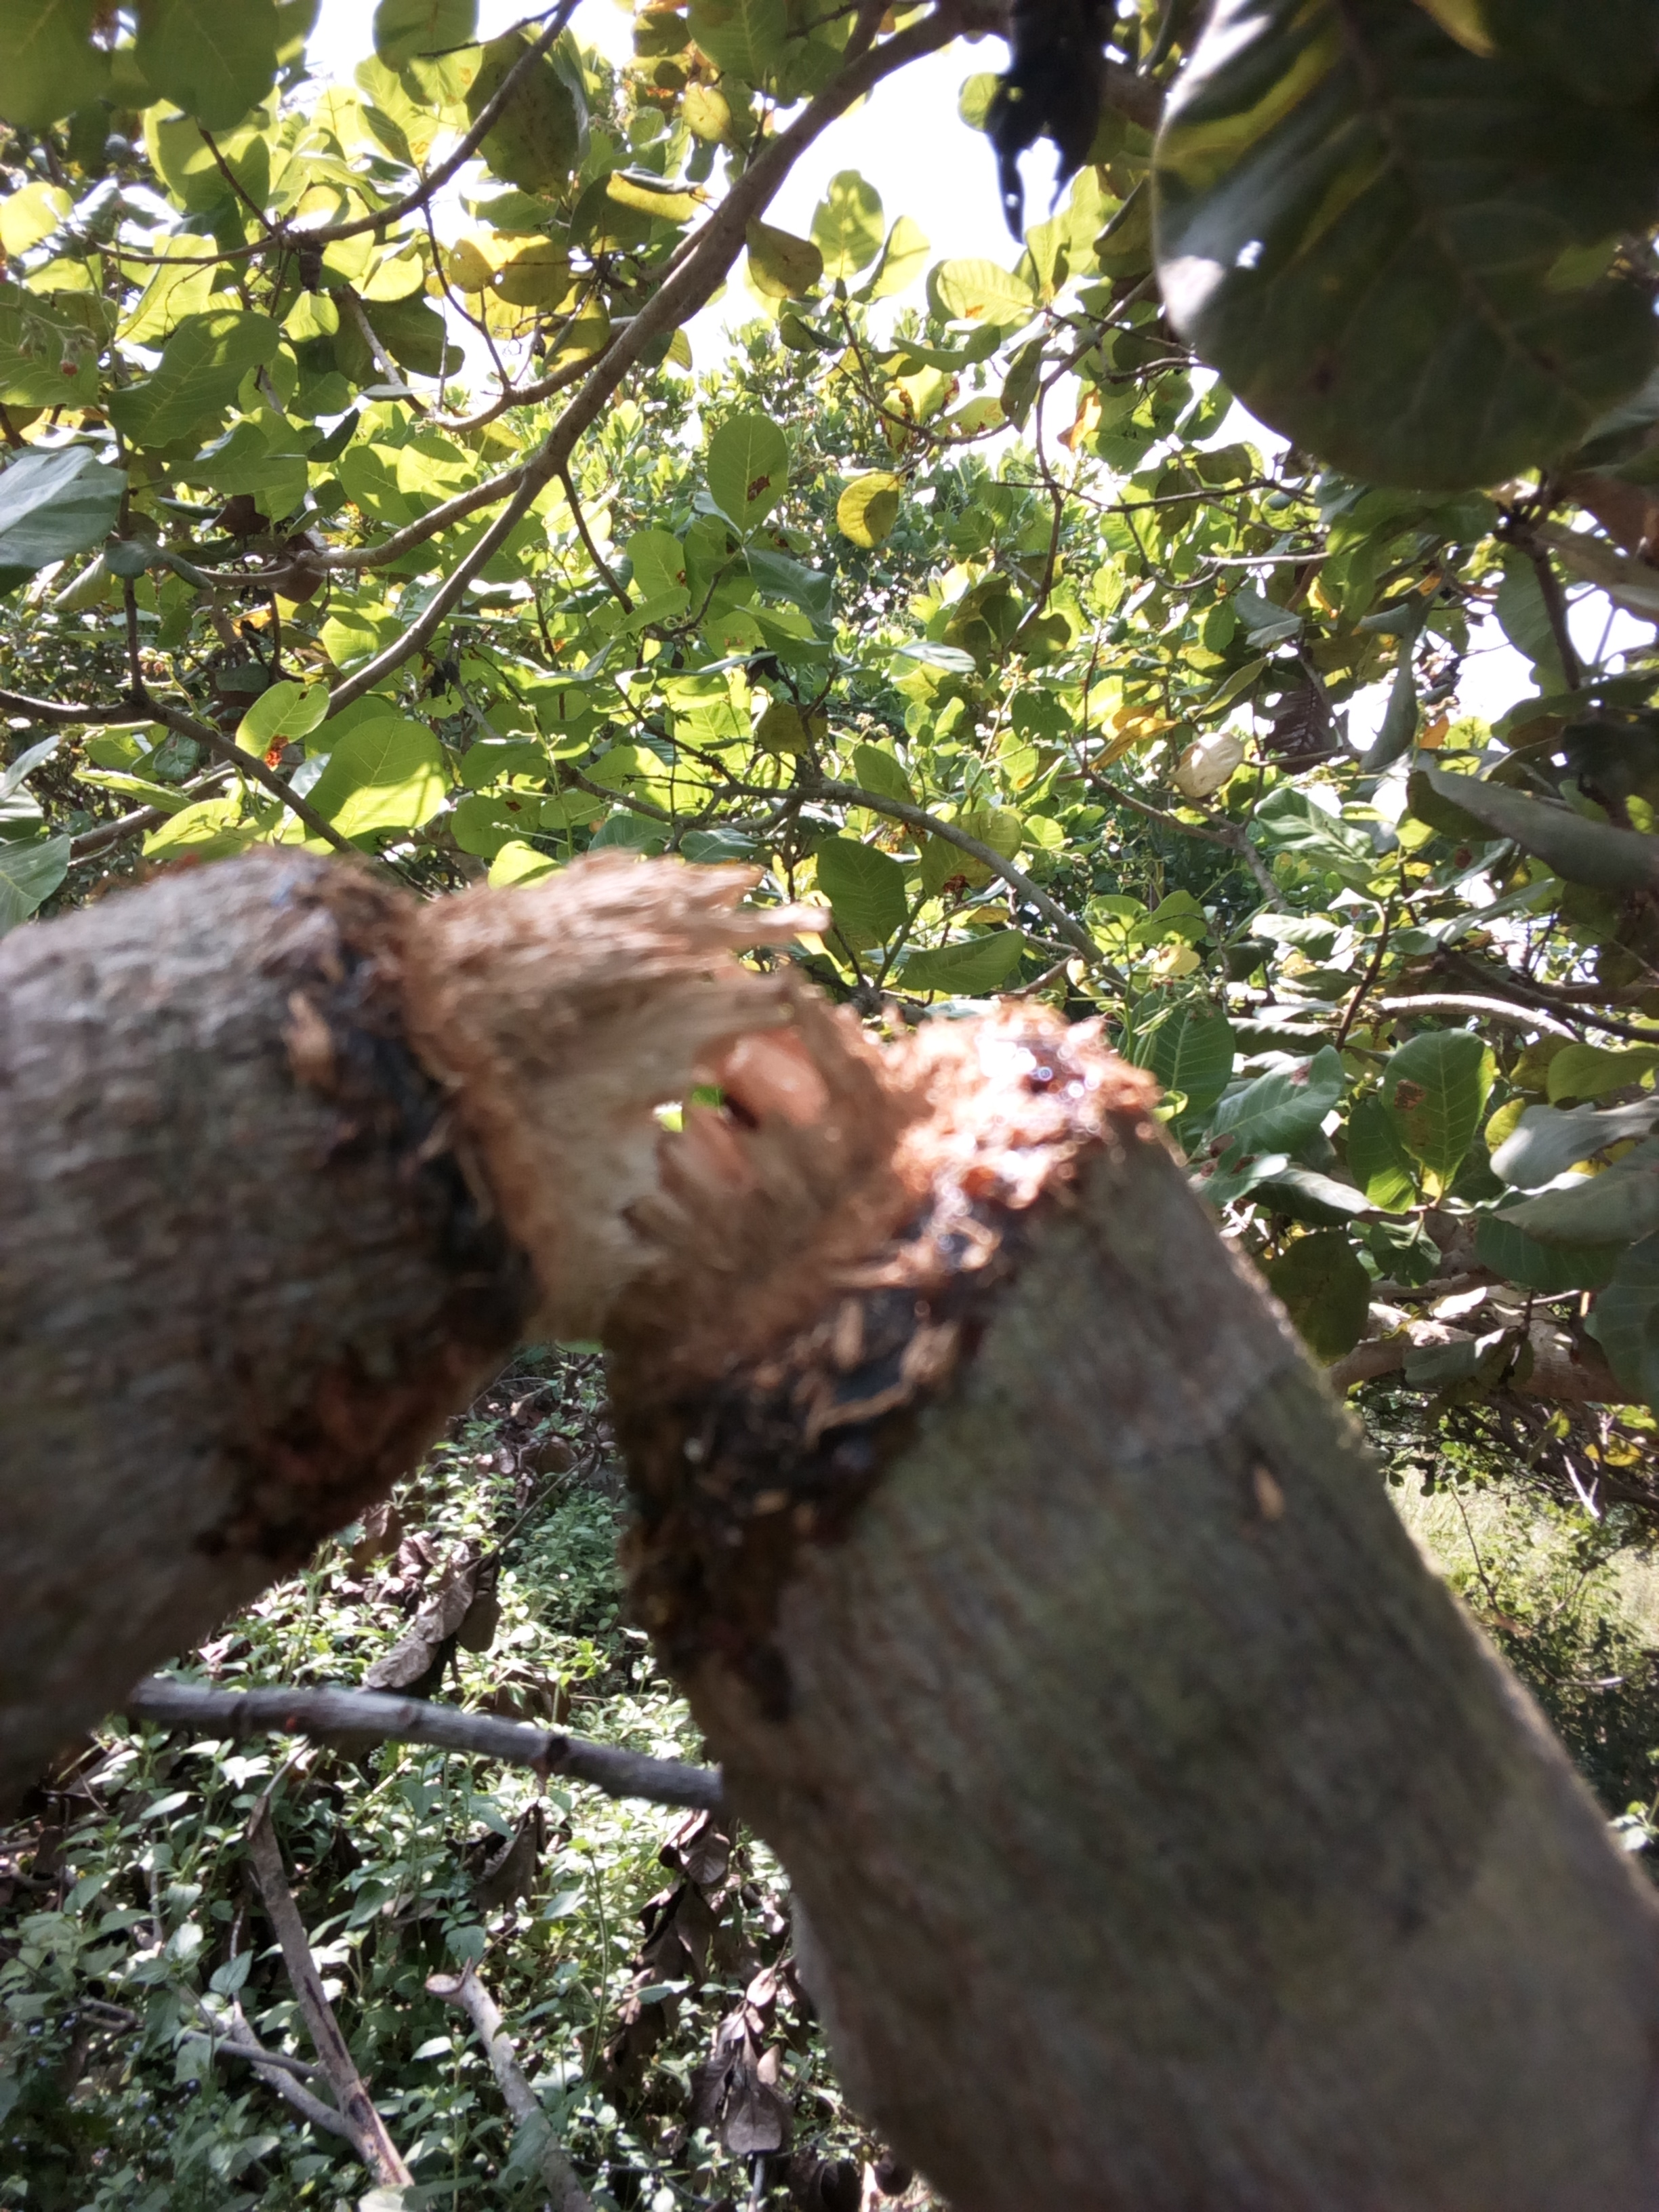Analepse trifasciata: (206, 719, 1101, 1583)
